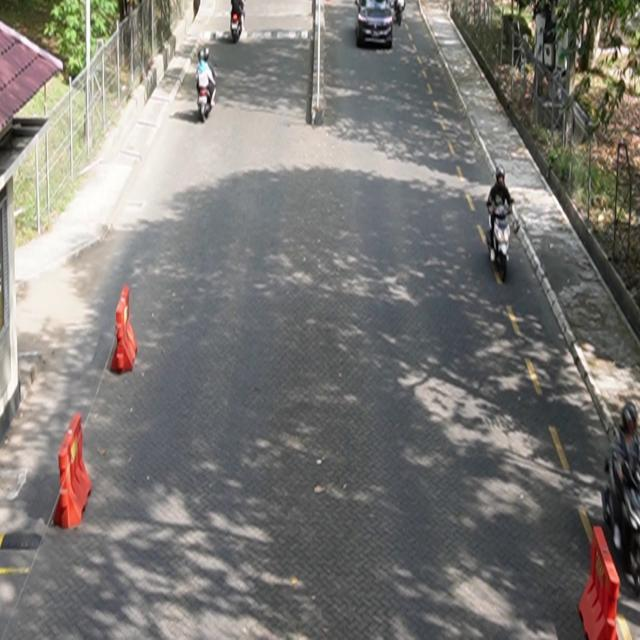car: (356, 1, 395, 50)
